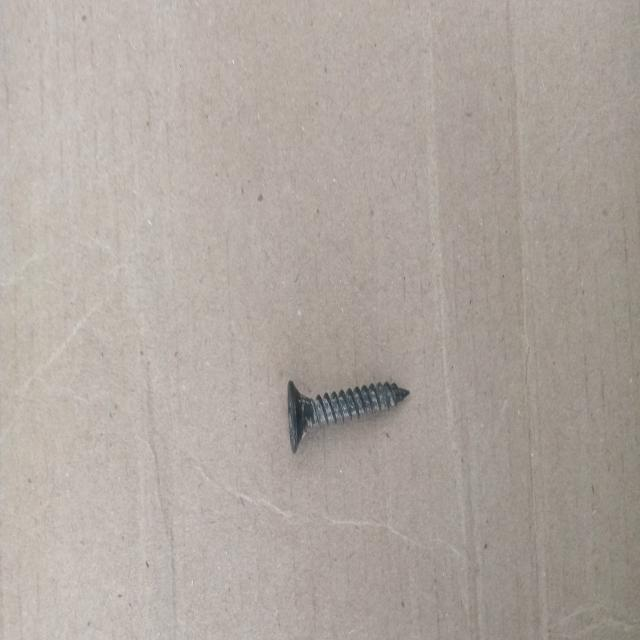screw: (286, 378, 411, 454)
